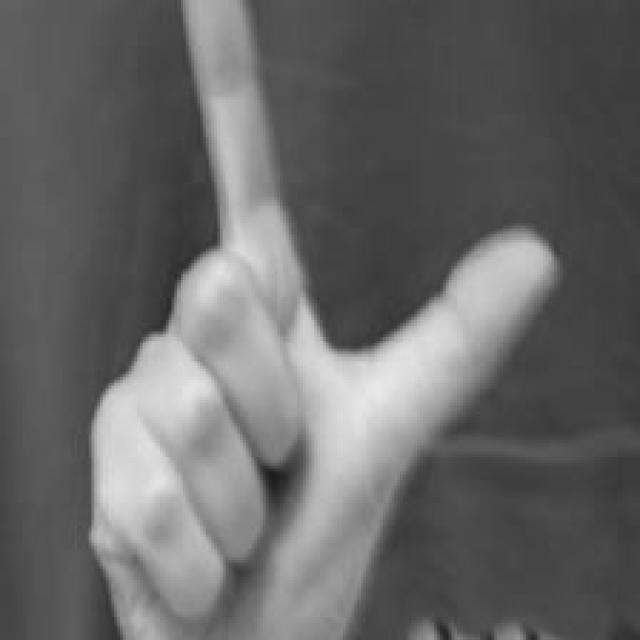L: (87, 0, 567, 640)
